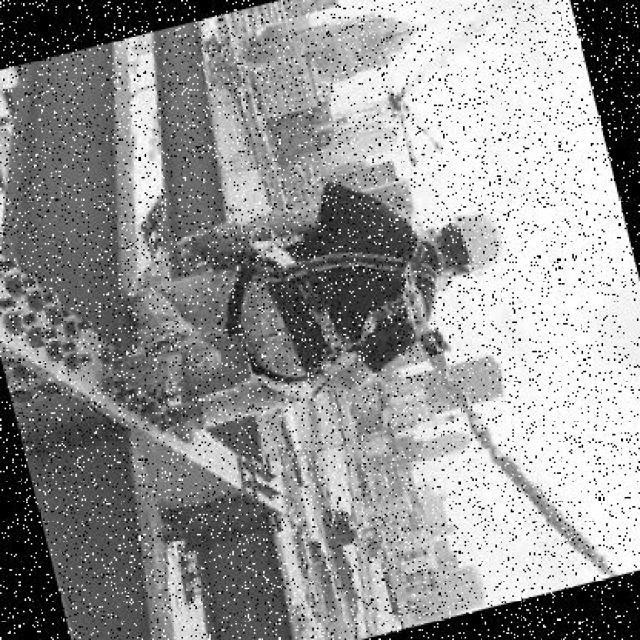Arnes_seguridad: (202, 202, 450, 404)
